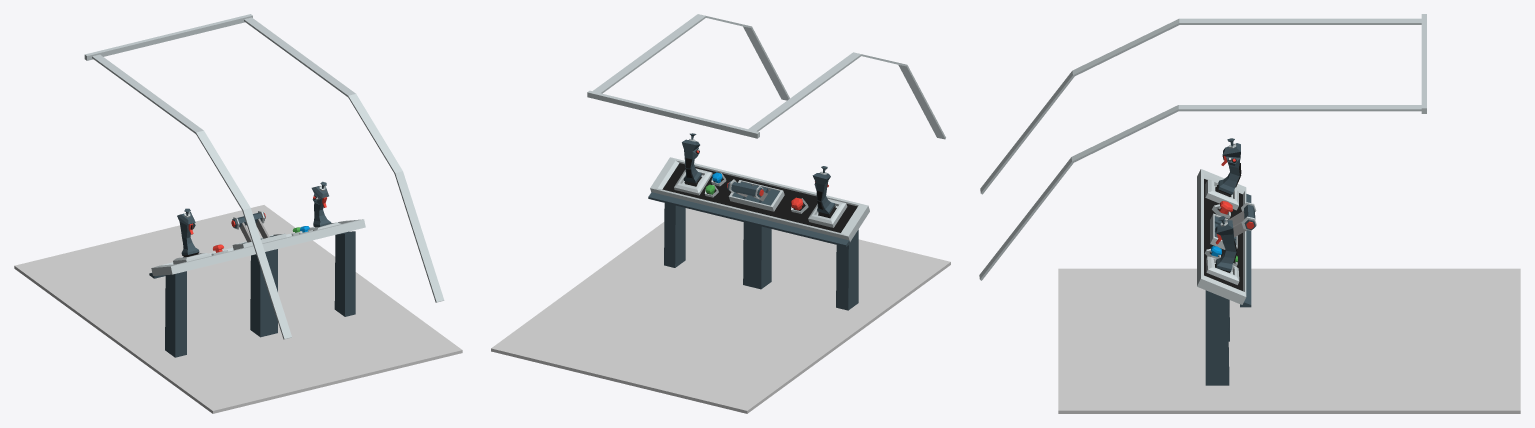
3 views of the same model, side by side, from view 1: azimuth 30°, elevation 25°; view 2: azimuth 150°, elevation 25°; view 3: azimuth 270°, elevation 25° (orthographic). The views are drawn at different scales.
Visible parts, largest first — view 1: group1281924270, group639274555, group132222622, group1065891803, group1560200220, group1134338797, group875073720, group1484419208, group1941272424, group1607828715, group119758459; view 2: group1281924270, group1065891803, group639274555, group132222622, group1560200220, group1974577532, group1134338797, group1484419208, group875073720, group1069426777, group1941272424, group1607828715 (+3 smaller); view 3: group1281924270, group639274555, group132222622, group1065891803, group875073720, group1941272424, group1607828715, group1484419208, group119758459, group1974577532, group1087696409.
Boxes of the visible parts, x1,y1,x2,y2 form: group1281924270: (14, 205, 462, 413); group639274555: (244, 17, 444, 302); group132222622: (92, 54, 291, 339); group1065891803: (151, 219, 365, 275); group1560200220: (250, 249, 277, 337); group1134338797: (165, 271, 186, 357); group875073720: (334, 231, 355, 316); group1484419208: (84, 14, 252, 60); group1941272424: (177, 208, 199, 257); group1607828715: (311, 181, 331, 227); group119758459: (231, 211, 269, 242); group1281924270: (491, 208, 950, 413); group1065891803: (650, 157, 869, 241); group639274555: (592, 14, 789, 100); group132222622: (748, 52, 945, 139); group1560200220: (743, 222, 771, 289); group1974577532: (648, 192, 850, 246); group1134338797: (836, 229, 858, 310); group1484419208: (587, 90, 759, 138); group875073720: (664, 203, 685, 267); group1069426777: (728, 180, 784, 211); group1941272424: (812, 166, 836, 218); group1607828715: (682, 133, 701, 186); group1281924270: (1058, 268, 1520, 413); group639274555: (979, 105, 1421, 280); group132222622: (980, 18, 1421, 194); group1065891803: (1197, 169, 1246, 304); group875073720: (1205, 290, 1229, 385); group1941272424: (1215, 138, 1241, 196); group1607828715: (1215, 216, 1237, 272); group1484419208: (1421, 14, 1426, 113); group119758459: (1227, 202, 1256, 237); group1974577532: (1240, 194, 1251, 307); group1087696409: (1205, 179, 1238, 210).
Size of the model in its own units: 4.38 by 3.96 by 7.06.
